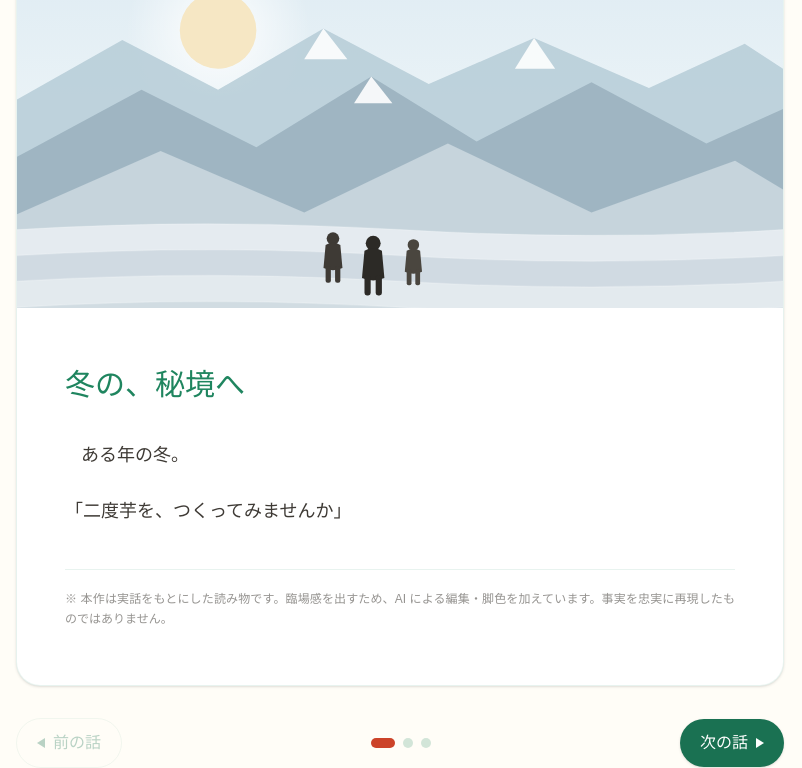
StoryReader › 最終ページでは「次の話」が無効化され CTA が表示される
(page scrolled)
Click the button "次の話": (732, 743) [680,719,784,767]
(page scrolled)
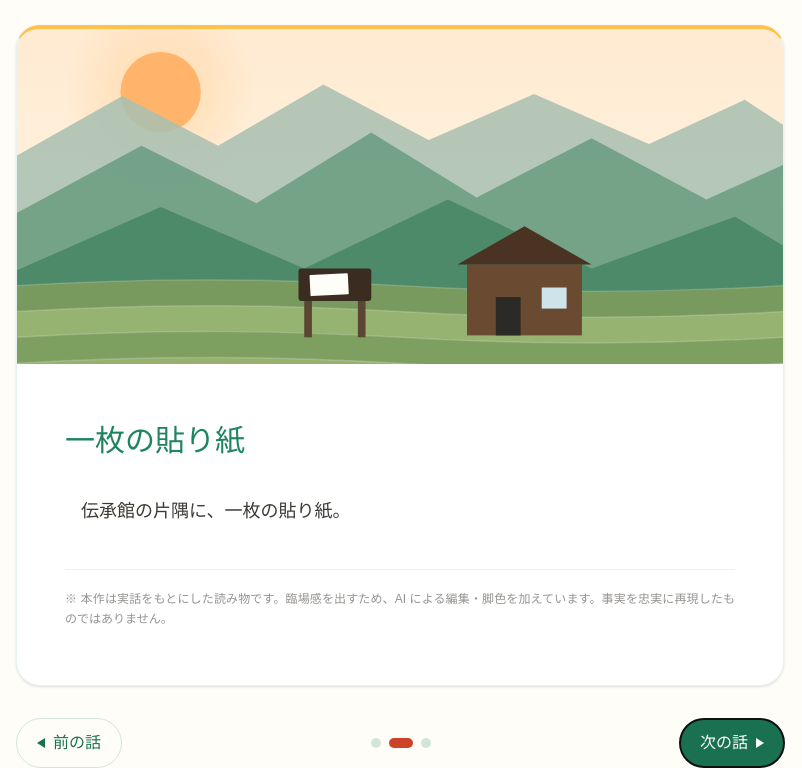
Click the button "次の話": (732, 743) [680,719,784,767]
(page scrolled)
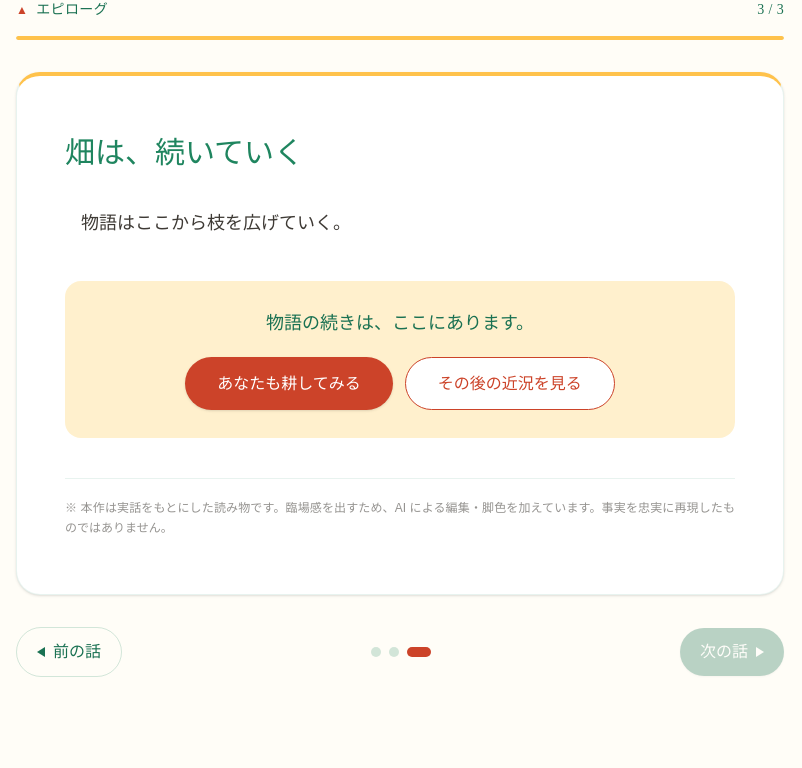
Expected: the heading "畑は、続いていく" is shown, [65,136,304,169]
Expected: the button "次の話" is disabled, [680,628,784,676]
